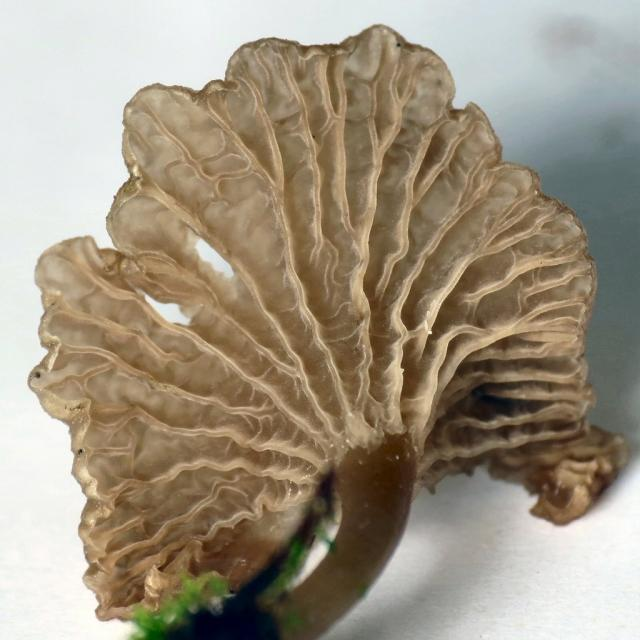Mushroom: (28, 25, 628, 640)
